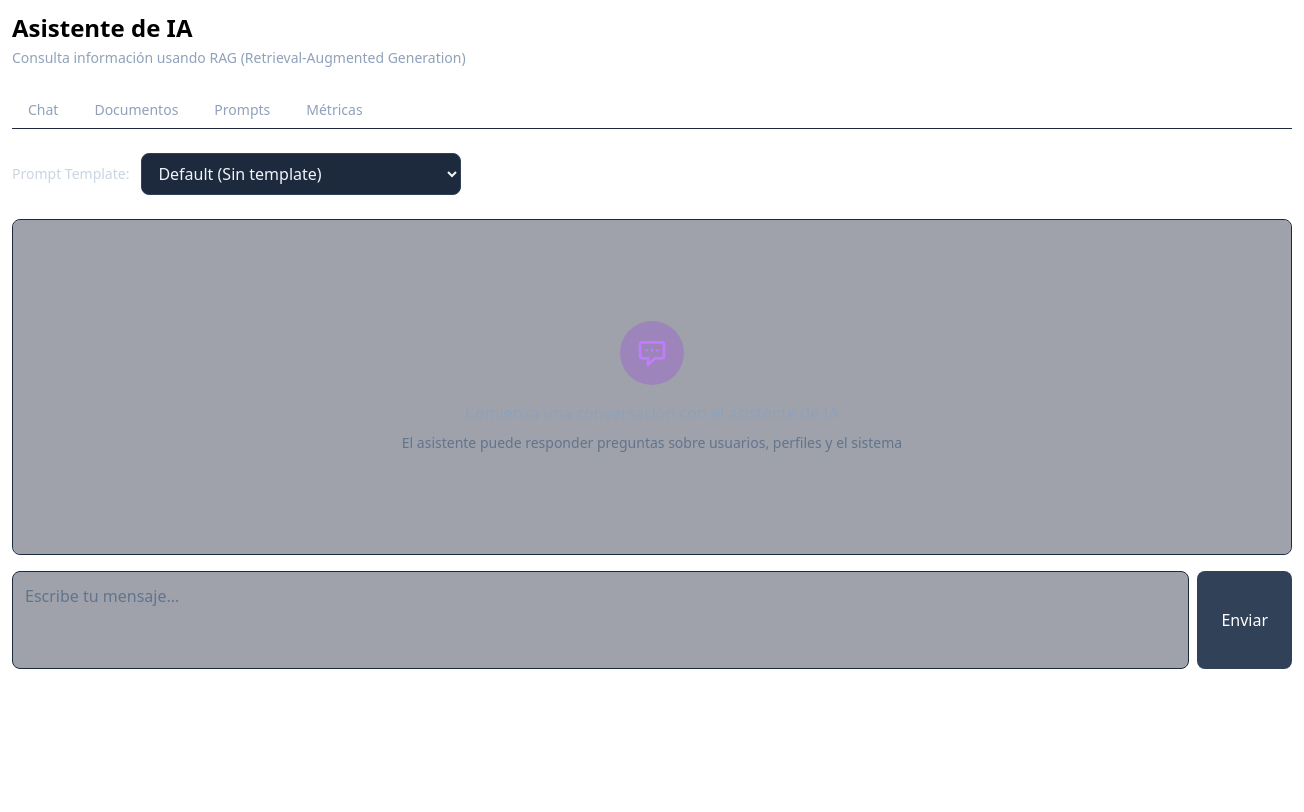
Test case: AIPage › debe mostrar estado de carga mientras se procesa el mensaje
Type "Test message" into the text box with placeholder "Escribe tu mensaje...". click: (601, 620)
box: [12,571,1189,669]
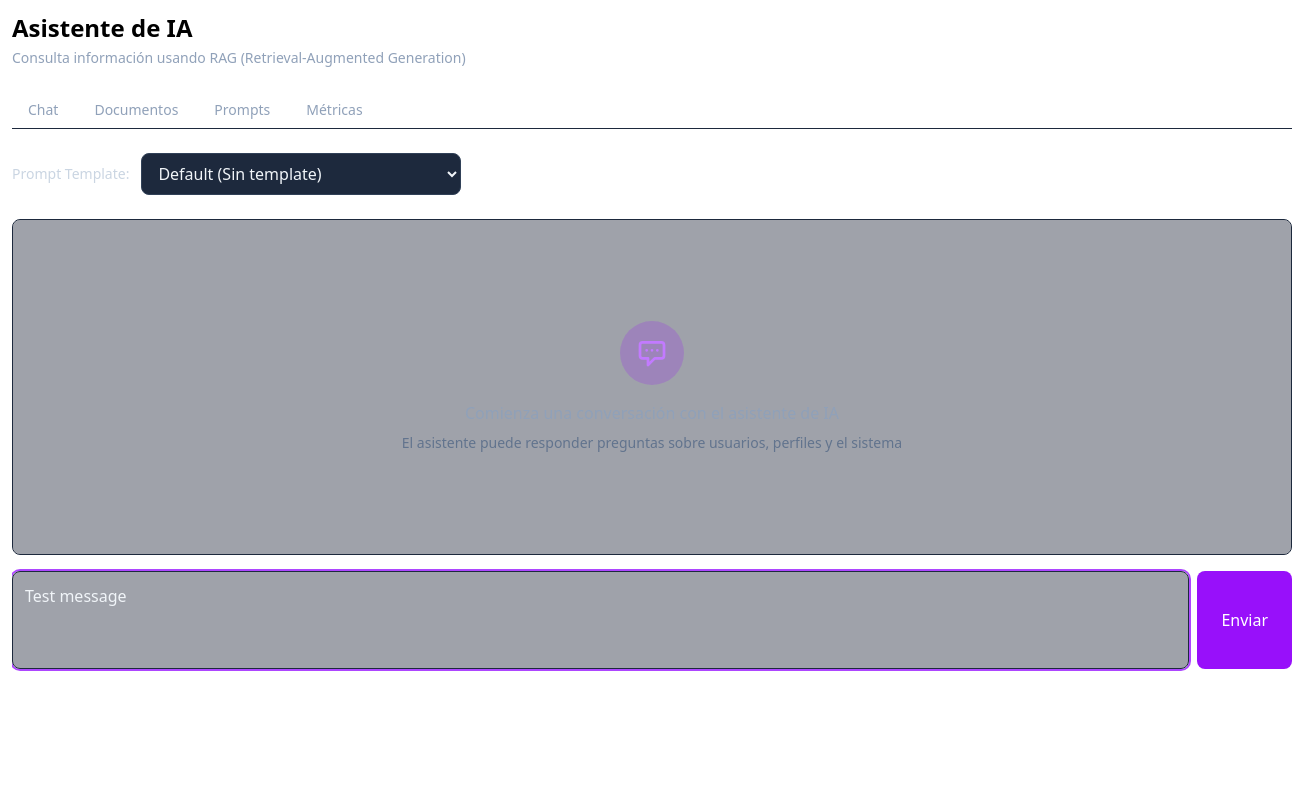
Click the button "Enviar". click: (1245, 620)
box: [1197,571,1292,669]
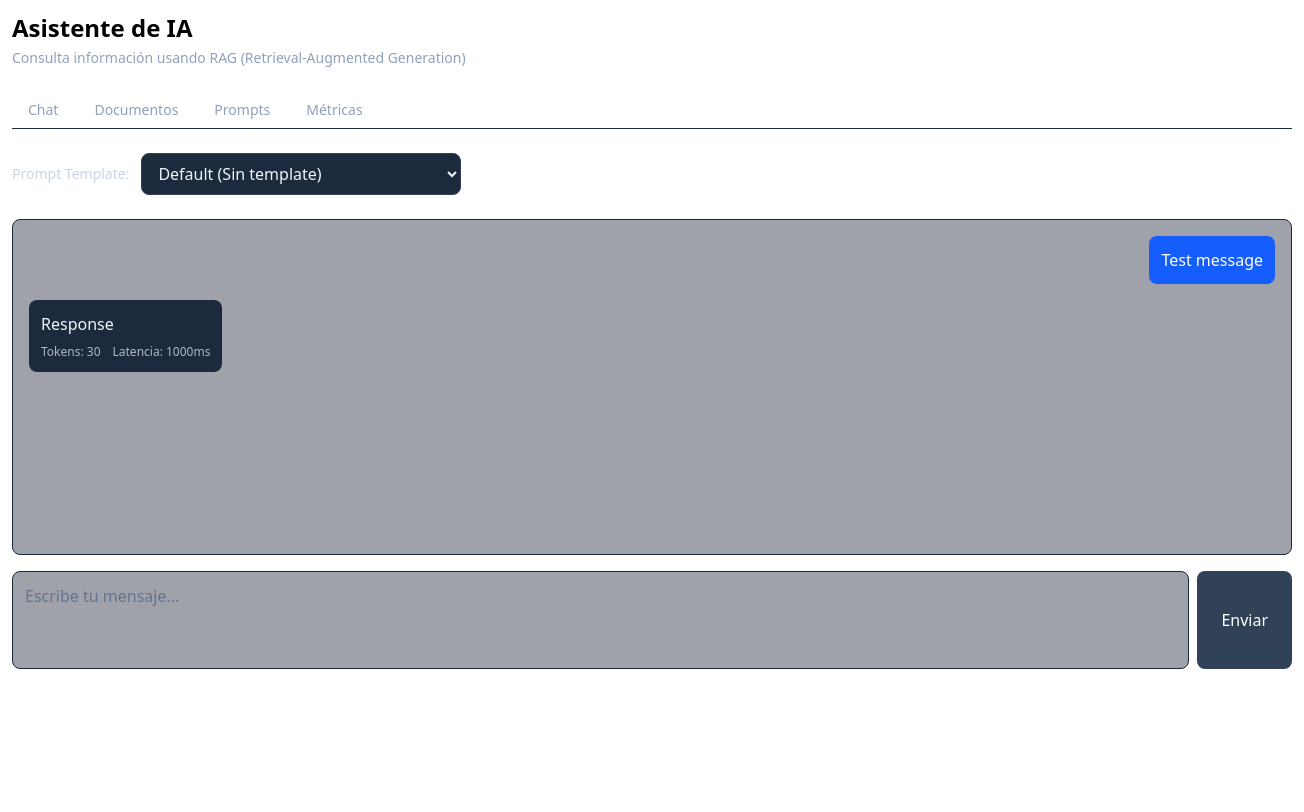
Result: the button "Enviar" is disabled at [1197,571,1292,669]
